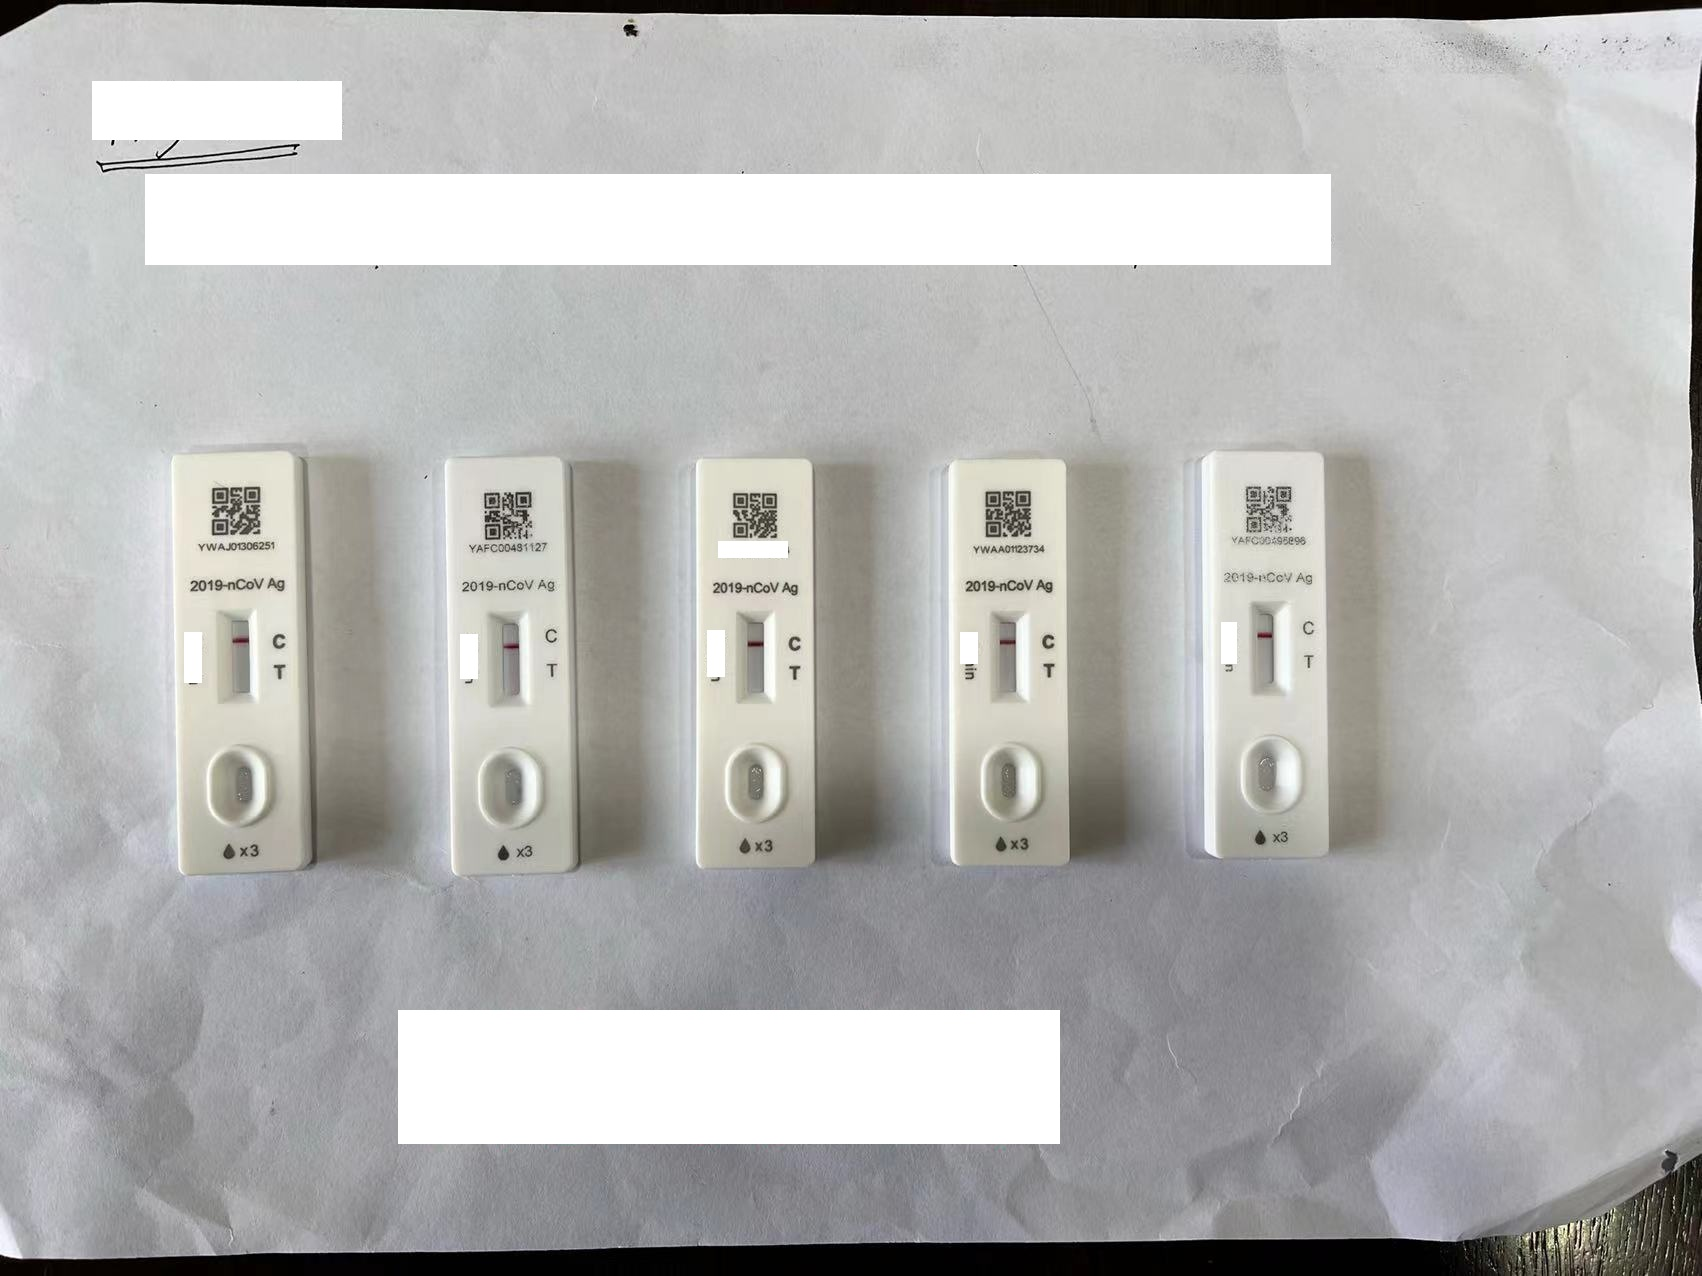negative: (488, 614, 531, 710), (216, 611, 255, 708), (990, 609, 1029, 704), (1249, 604, 1288, 696), (738, 611, 773, 705)
